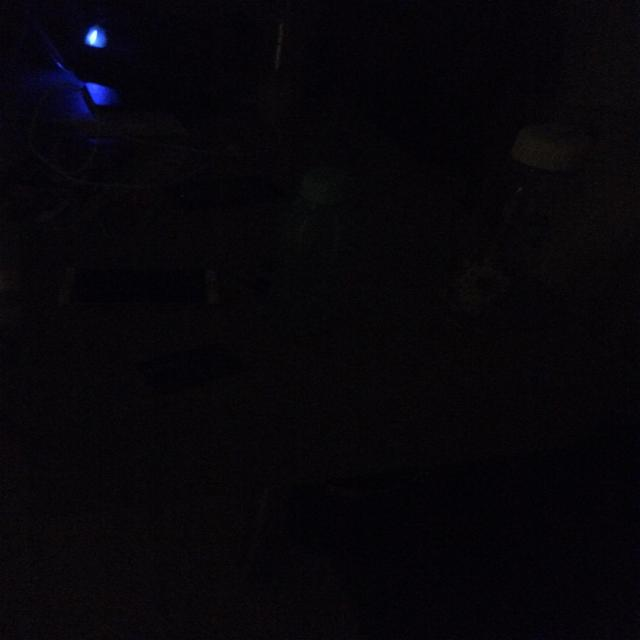Bottle: (244, 136, 388, 367), (464, 107, 608, 316)
